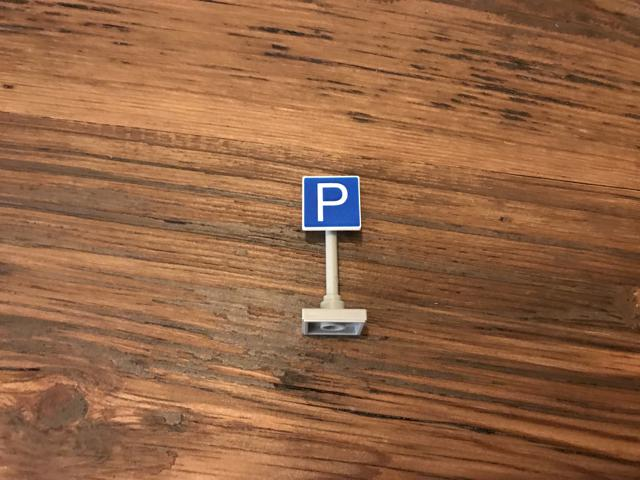parken: (298, 172, 365, 233)
